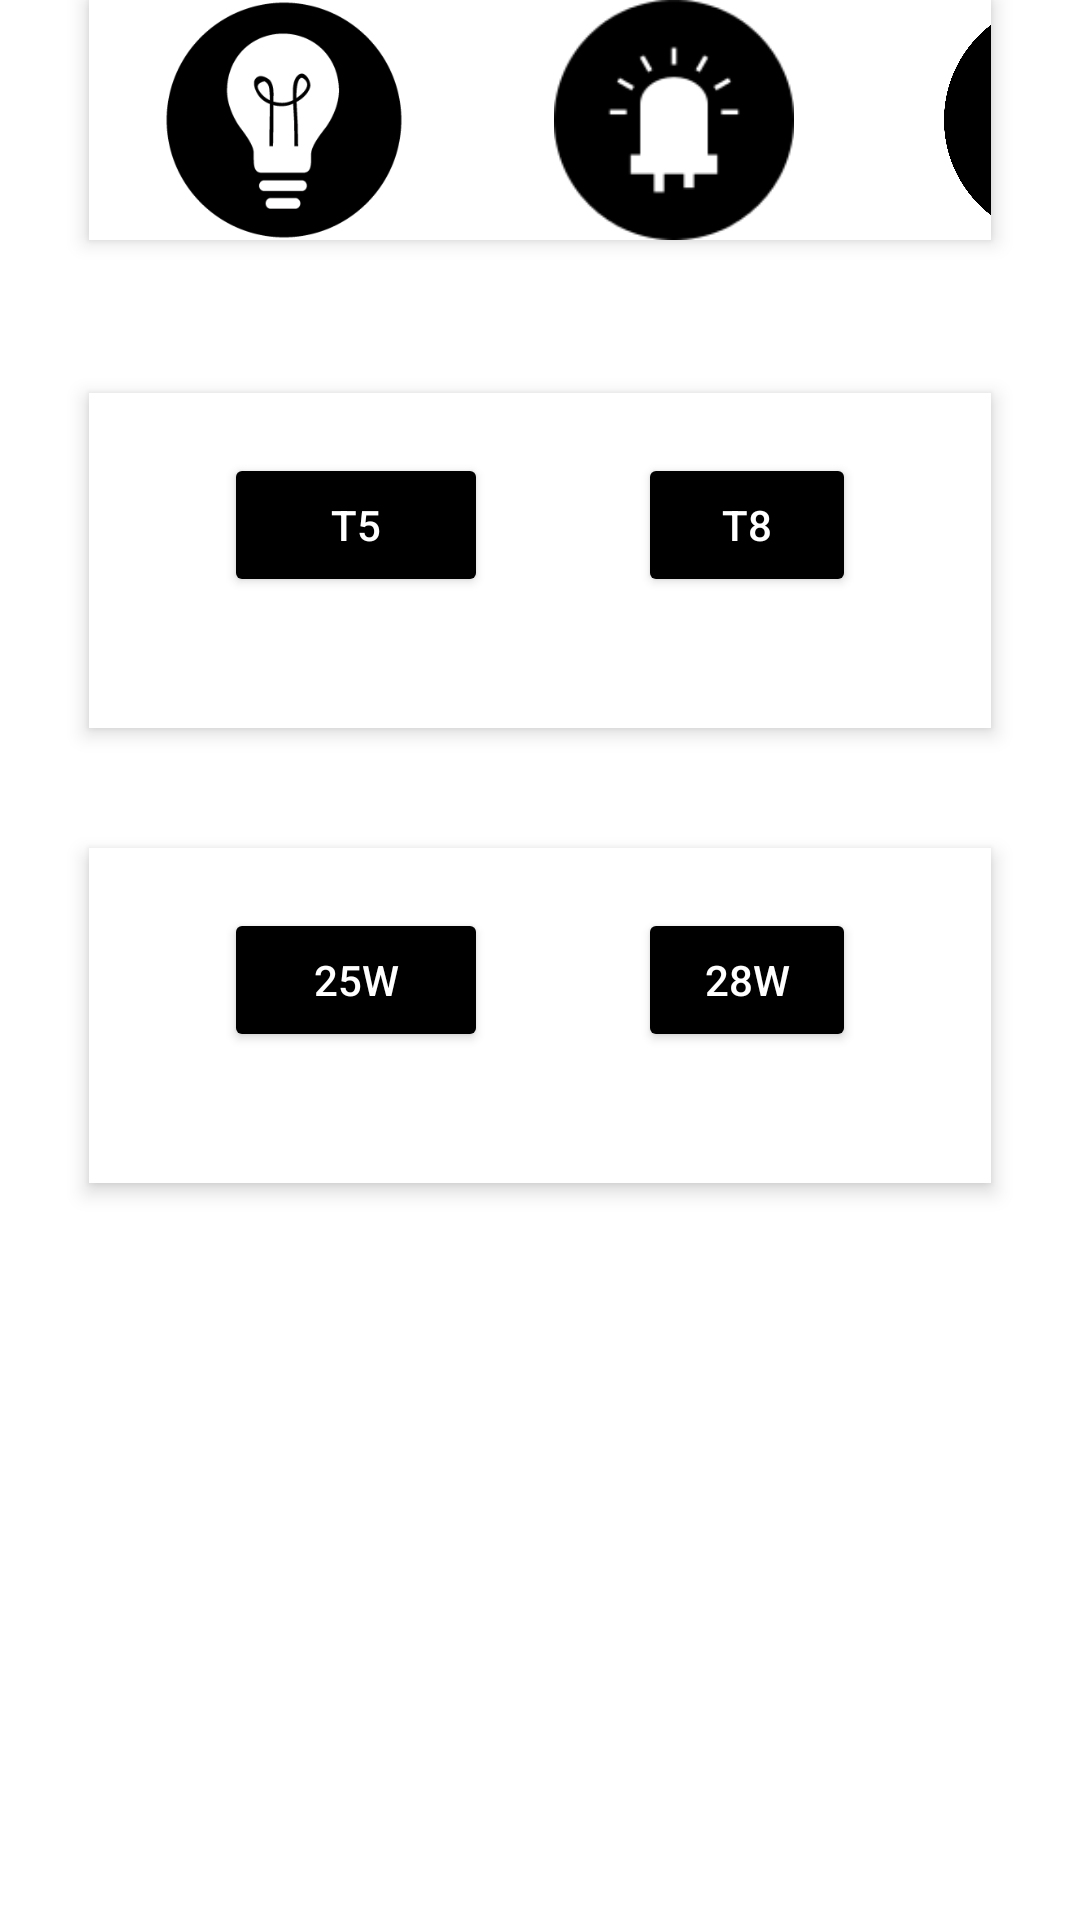

Locate icon controls on the screen. Image size 1080 x 1920, boxes as bbox(x1, y1, x2, y2).
led: bbox(554, 0, 794, 240)
lightbulbicon: bbox(166, 2, 402, 238)
